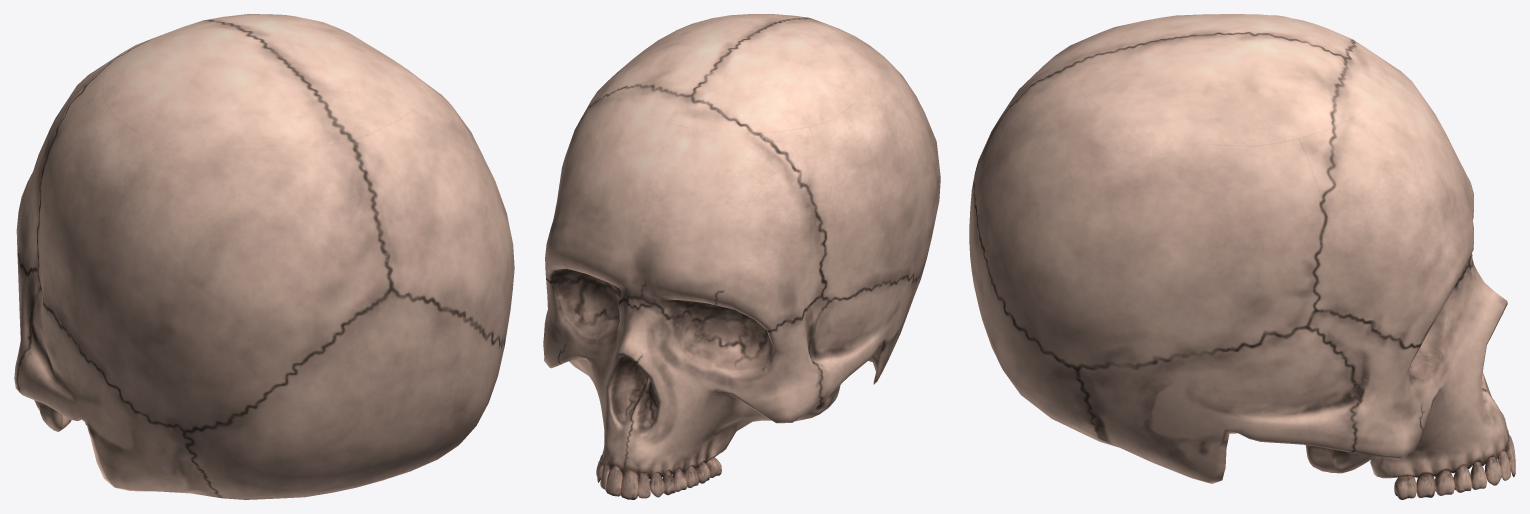
The picture shows the model from 3 angles, left to right: view 1: azimuth 30°, elevation 25°; view 2: azimuth 150°, elevation 25°; view 3: azimuth 270°, elevation 25°; orthographic projection. The views are drawn at different scales.
Visible parts, largest first — view 1: LowPoly; view 2: LowPoly; view 3: LowPoly.
Boxes of the visible parts, x1,y1,x2,y2 form: LowPoly: (14, 14, 514, 499); LowPoly: (543, 14, 940, 499); LowPoly: (969, 14, 1515, 499).
Bounding box in the file's own units: 153 × 180 × 204.
1 material, 1 textured.
